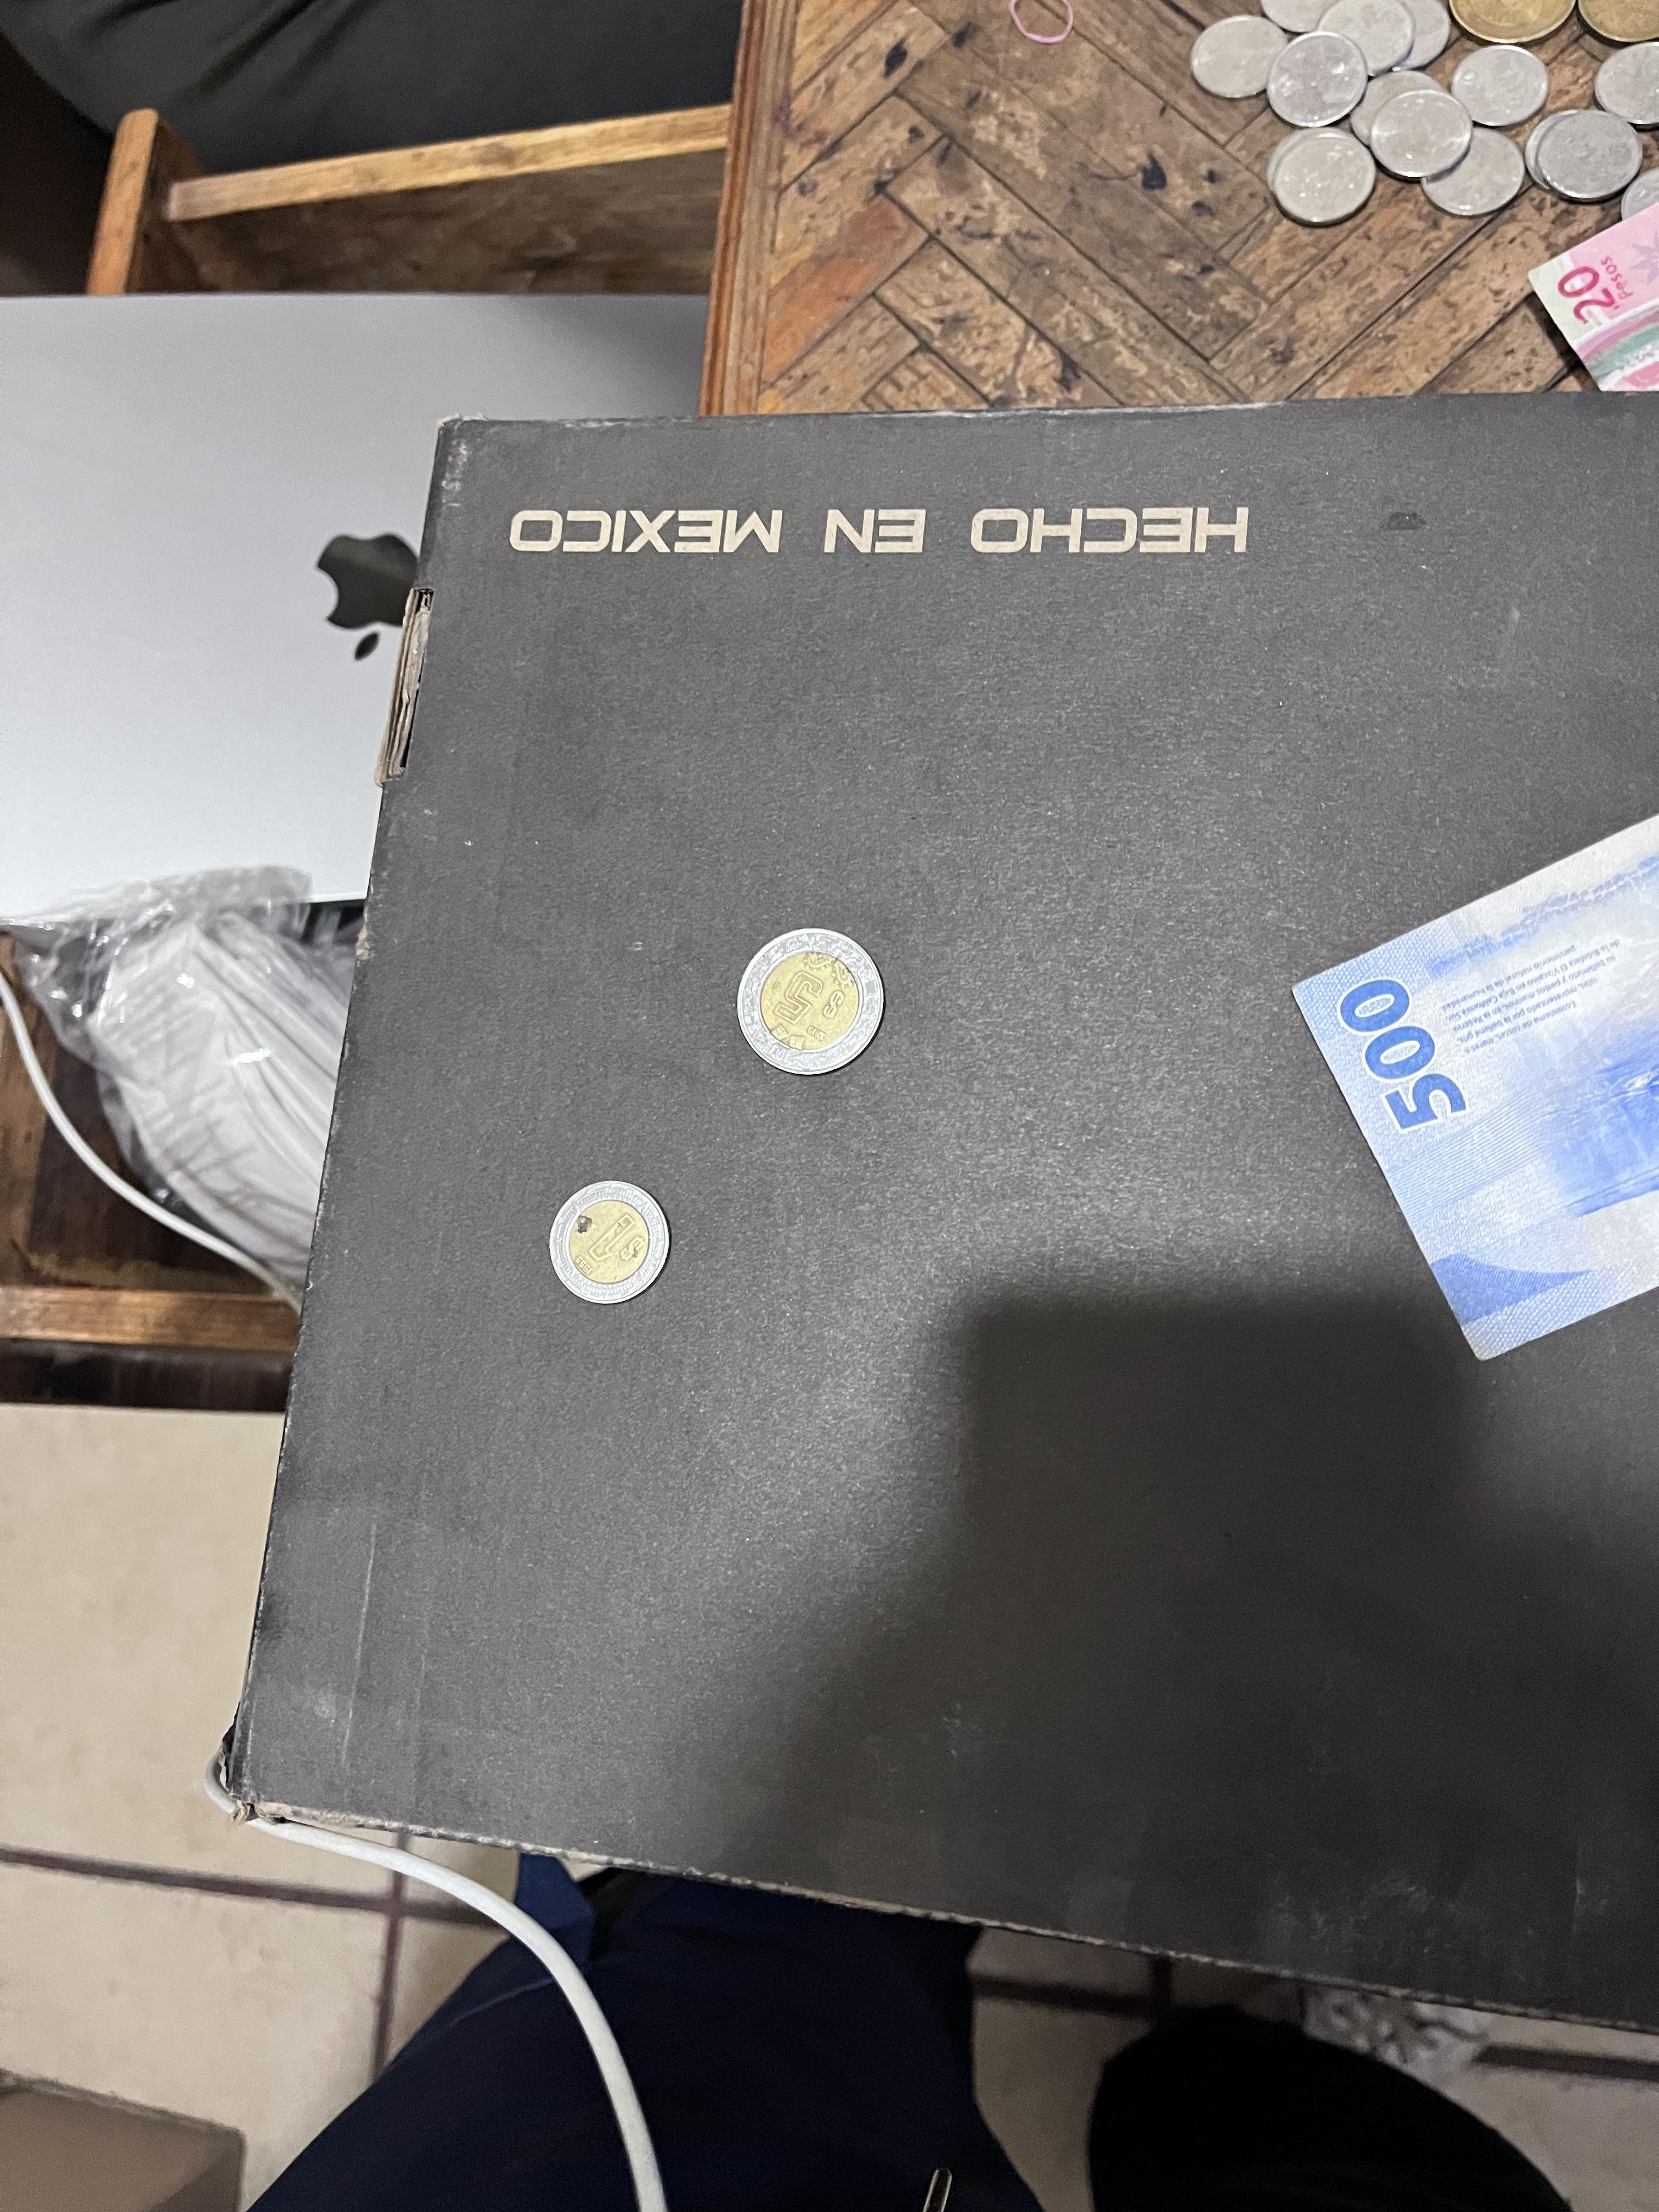1: (545, 1179, 671, 1312)
20: (1525, 181, 1656, 383)
5: (708, 911, 906, 1094)
500 nuevo: (1272, 803, 1659, 1409)
